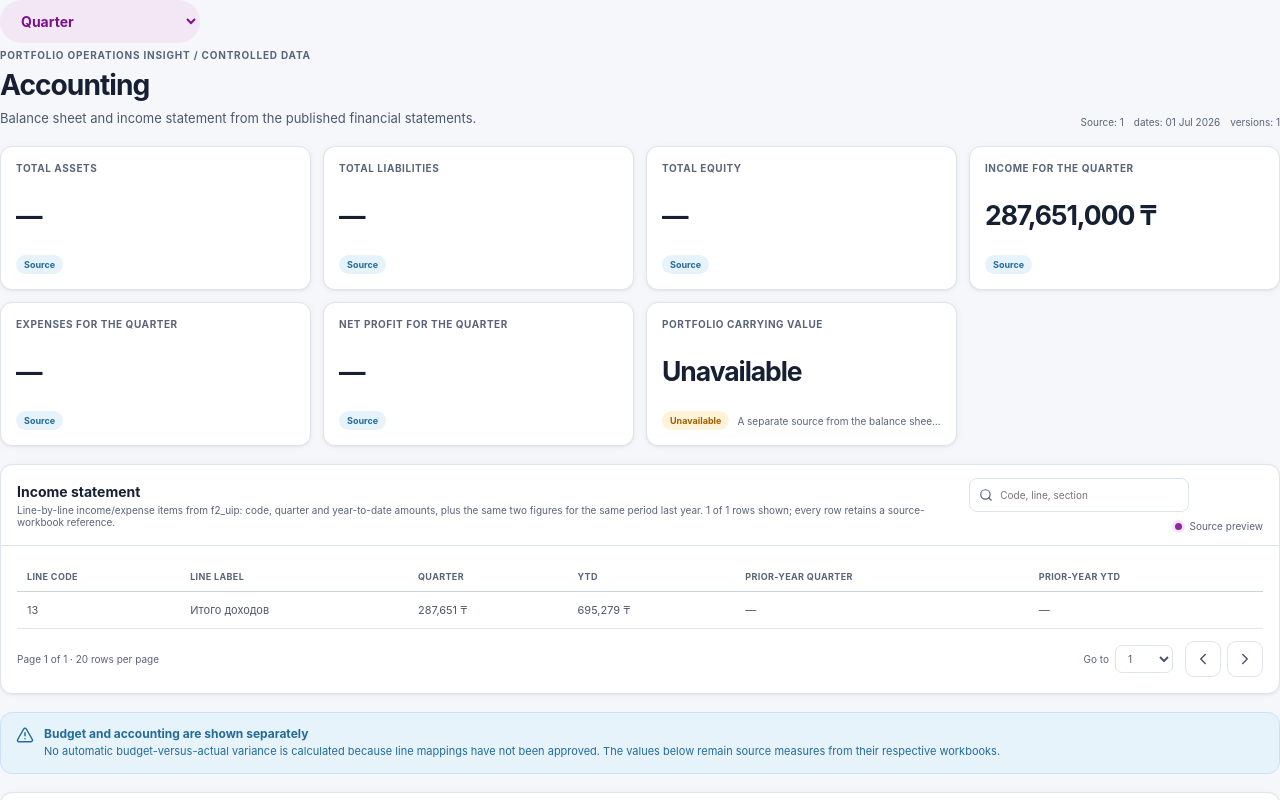
Test: multi-source domain pages › swaps the income-statement panel for monthly budget charts and tables via the period dropdown
Expected: the text "Income for the quarter" is shown, [985,162,1134,174]
Expected: the column heading "Prior-year quarter" is shown, [735,562,1029,592]
Select "Monthly" in the dropdown named "Income statement" at {"x": 100, "y": 22}, box [0,0,200,43]
(page scrolled)
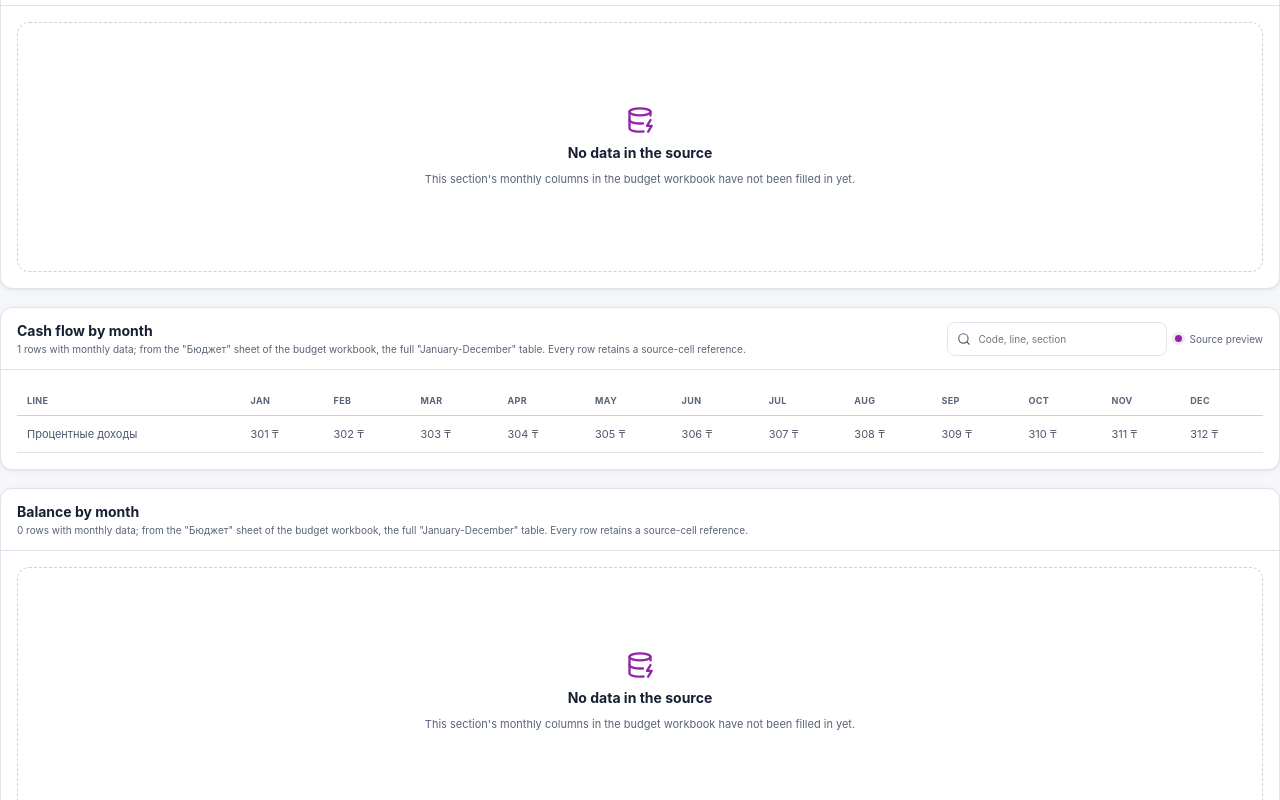
Result: the column heading "Prior-year quarter" is gone
Result: the text "Процентные доходы" is shown at [17,416,240,453]
Result: the column heading "Jan" is shown at [240,386,324,416]
